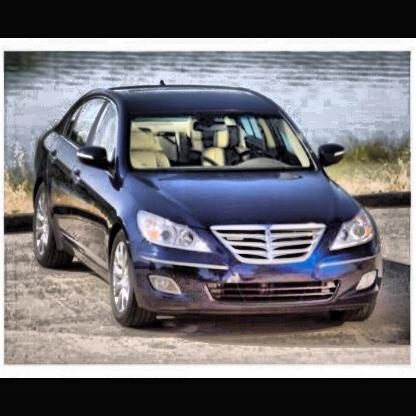Hyundai Genesis Sedan 2012: (35, 82, 384, 333)
